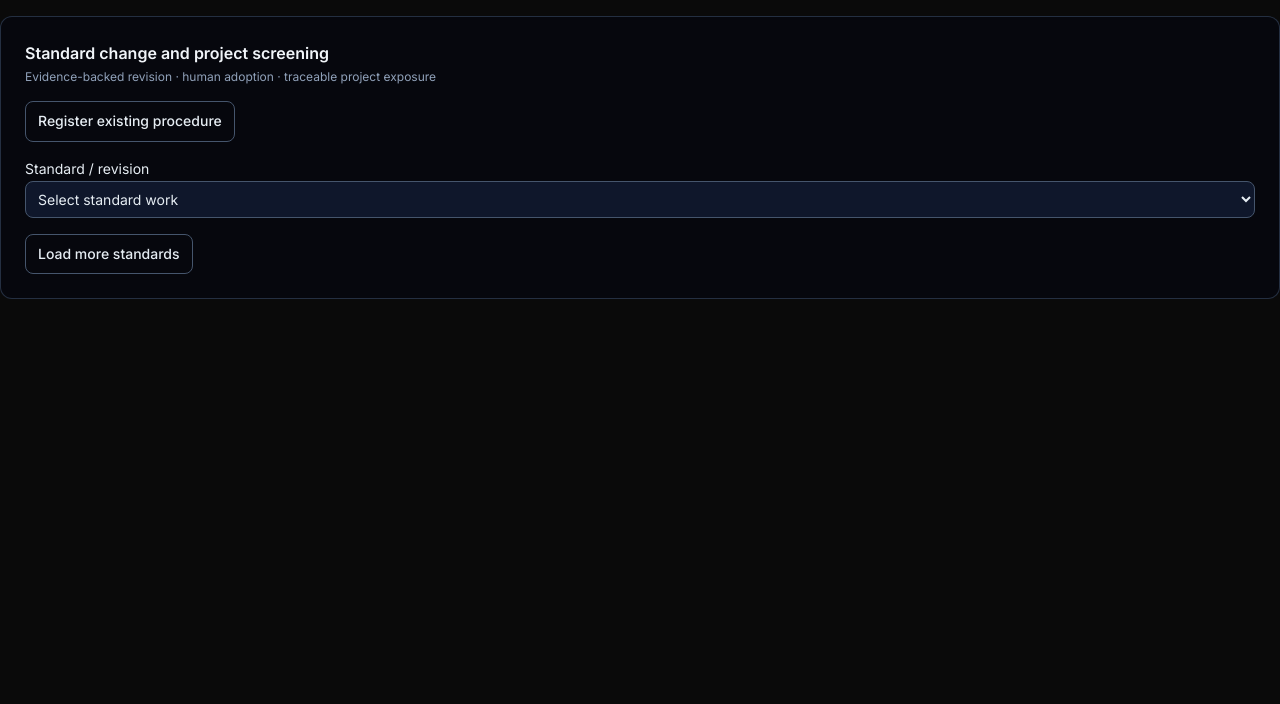
it: surfaces self-approval refusal without claiming adoption
Select "estimate · v1 · Estimate review · required" in the dropdown labelled "Standard / revision". click: {"x": 640, "y": 199}
box: [25, 180, 1255, 218]
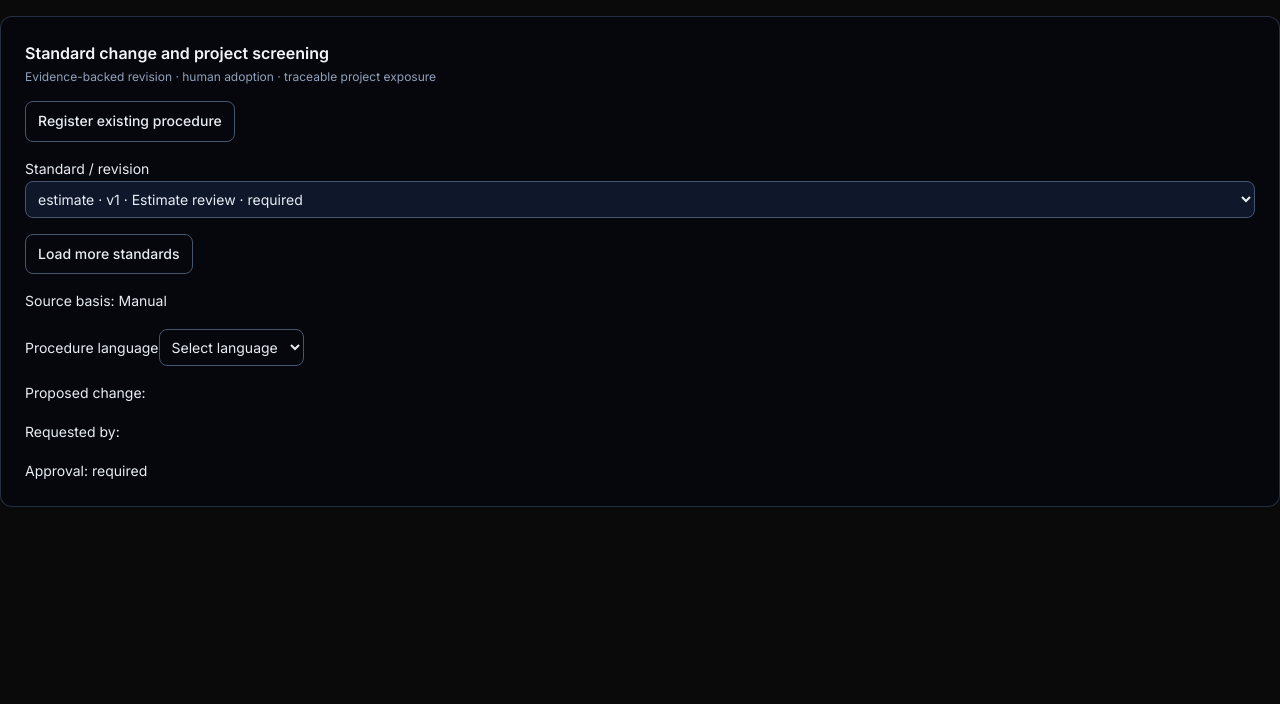
Select "en · draft" in the dropdown labelled "Procedure language". click: {"x": 231, "y": 348}
box: [158, 329, 304, 366]
(page scrolled)
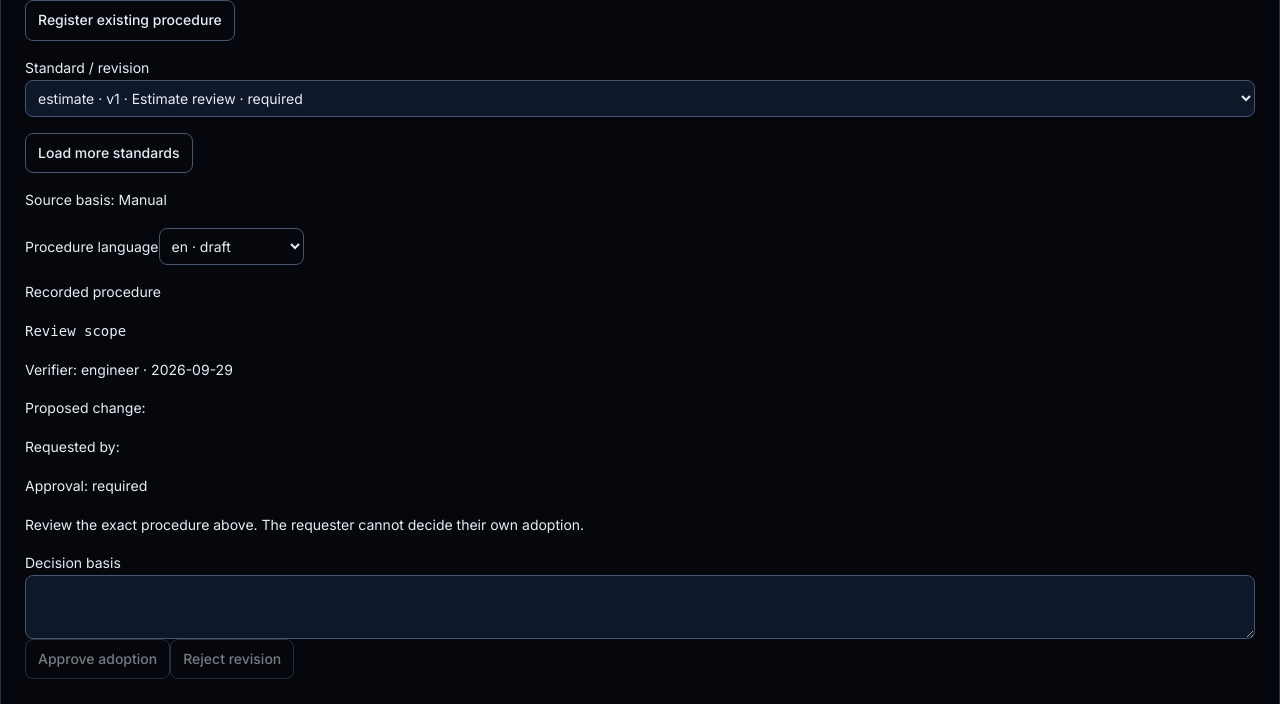
Type "Reviewed change" into the text box labelled "Decision basis". click: {"x": 640, "y": 607}
box: [25, 575, 1255, 638]
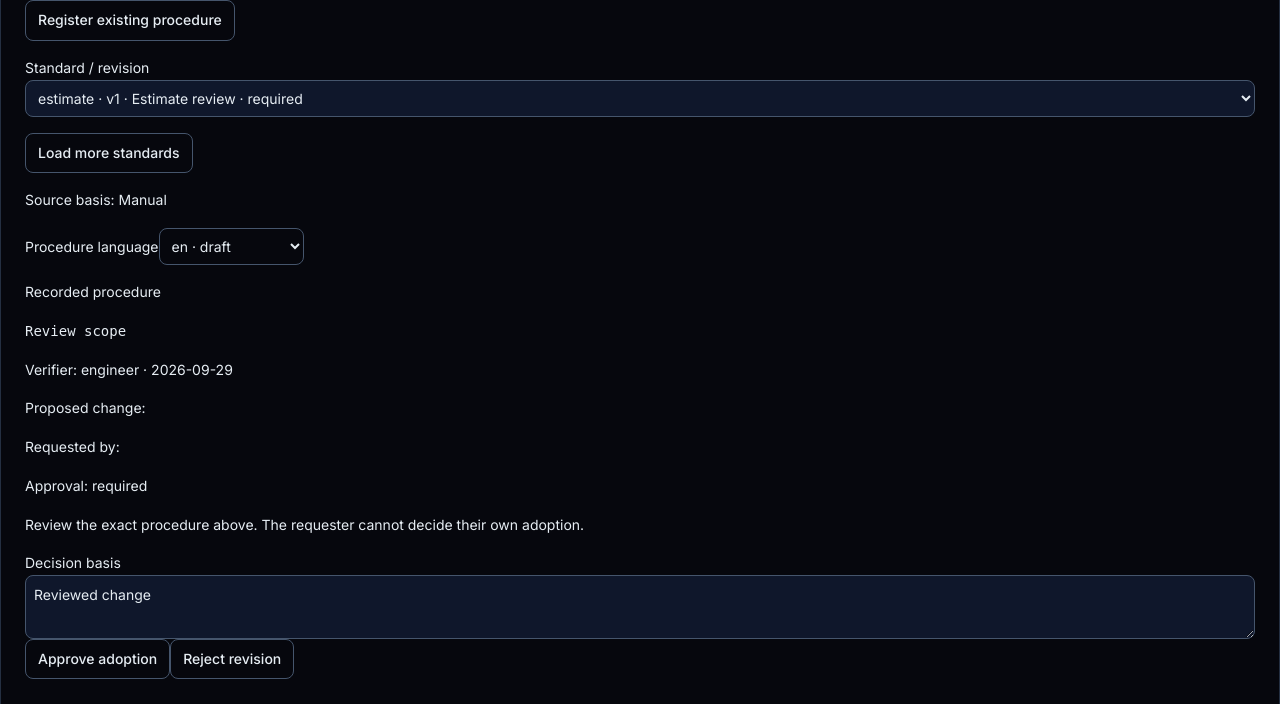
Click the button "Approve adoption". click: {"x": 98, "y": 659}
box: [25, 638, 170, 679]
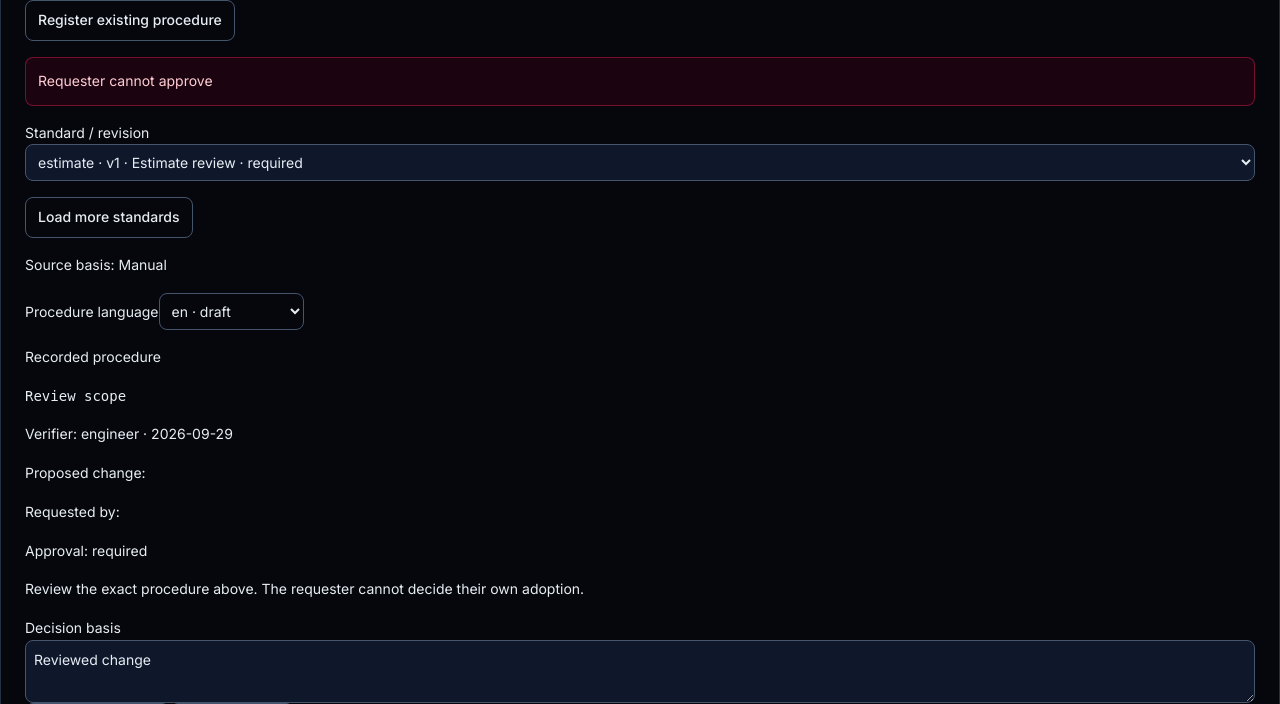
Result: the message reads "Requester cannot approve" at [38, 72, 213, 89]
